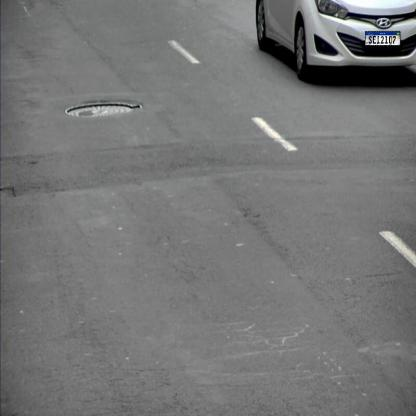PlacaM: (365, 31, 400, 46)
